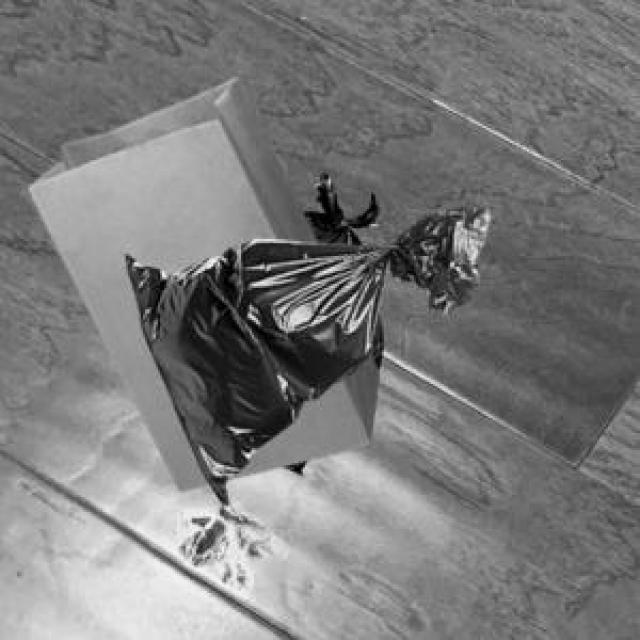miscellaneous trash: (122, 205, 484, 501), (280, 309, 380, 469), (299, 169, 376, 309)
paper: (26, 75, 376, 486)
